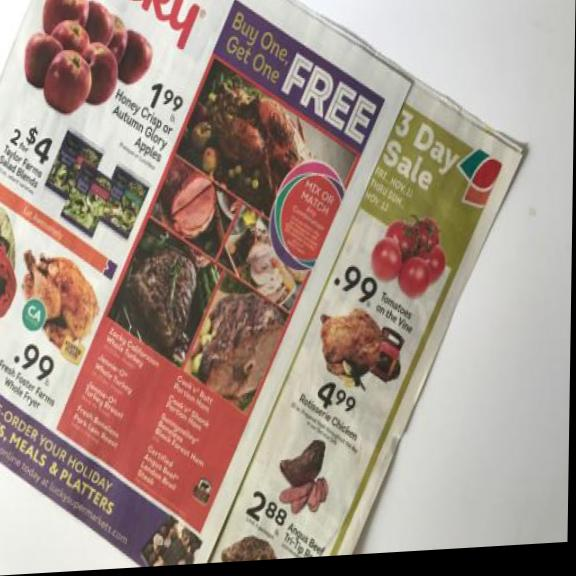Kertas: (0, 0, 536, 576)
